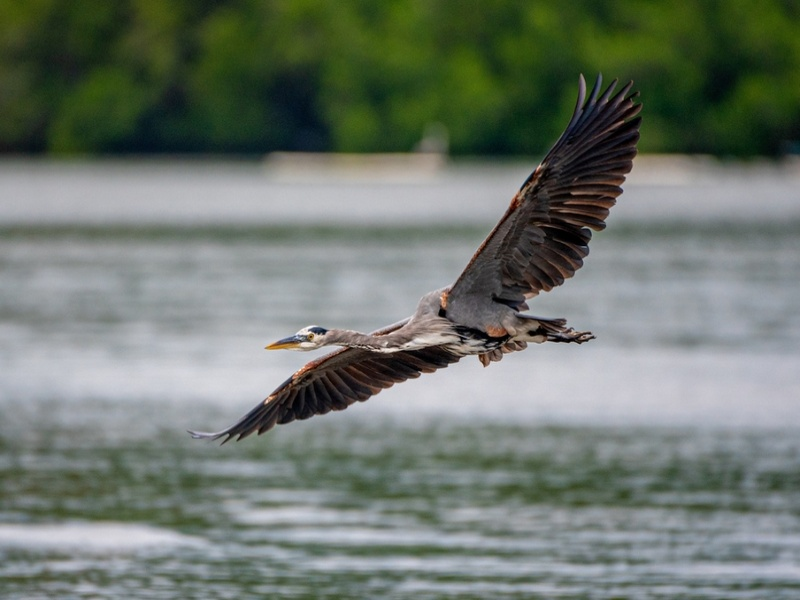heron: (188, 72, 645, 445)
